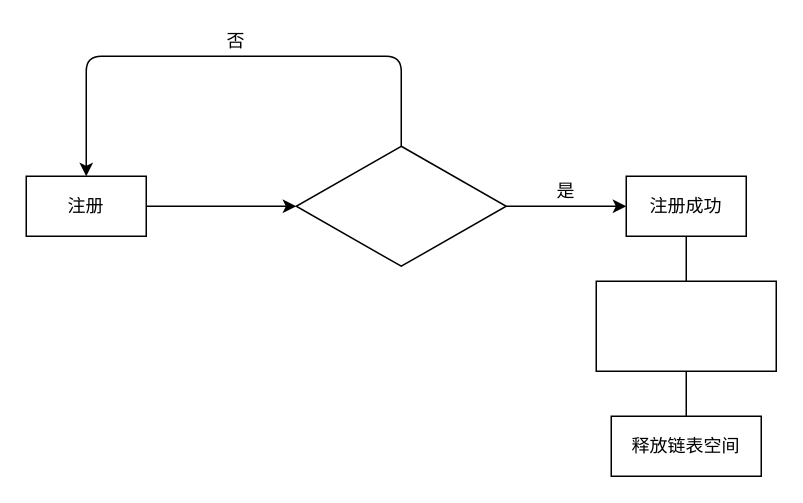
The diagram is 803 pixels wide and 503 high, and some of its shapes have lost their labels. Here are the shapes that lost their labels. From the top down, the centre of each, then its label:
At point 400,205: "注册是否成功".
At point 685,325: "将新用户的信息写入文件".
